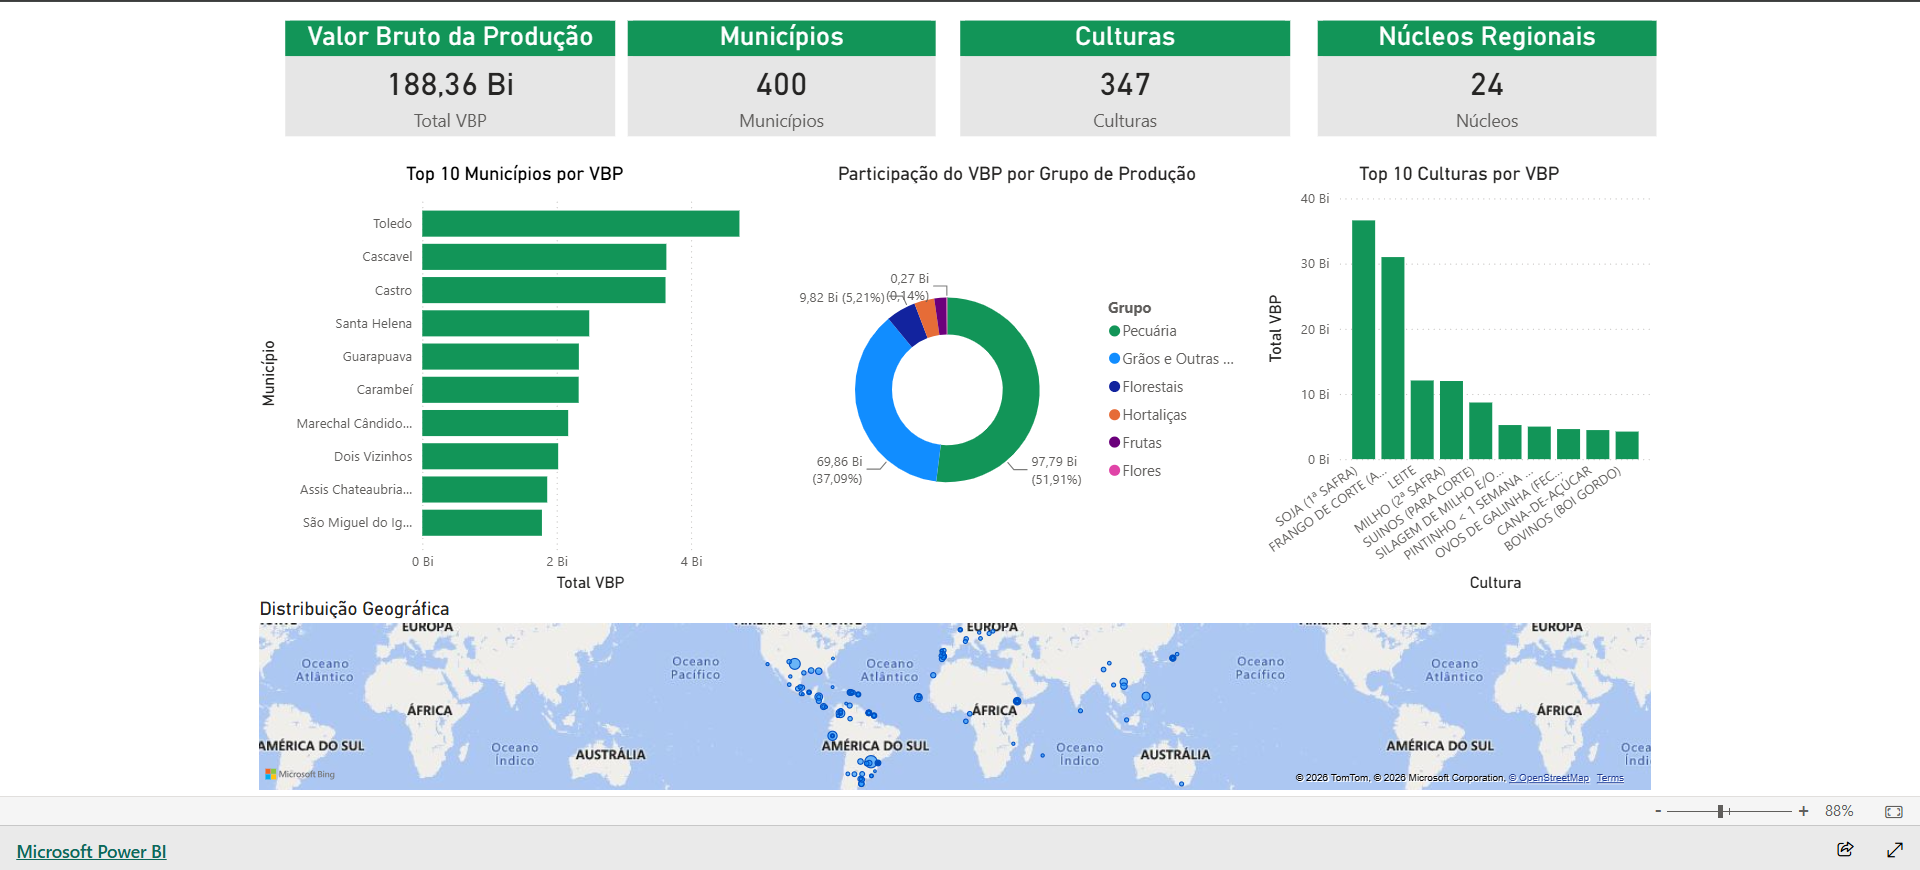

This screenshot's page, from the dashboard's own definition file:
{"tool":"powerbi","page":{"name":"Página 1","canvas":[1280,720],"ordinal":0},"visuals":[{"type":"card","title":"Valor Bruto da Produção","fields":{"Values":["Fato_VBP.Total VBP"]},"box":[27.8,17.3,299.6,104.7],"z":0},{"type":"card","title":"Municípios","fields":{"Values":["Fato_VBP.Municípios"]},"box":[339,17.3,279.4,104.7],"z":1000},{"type":"card","title":"Culturas","fields":{"Values":["Fato_VBP.Culturas"]},"box":[640.5,17.3,299.6,104.7],"z":2000},{"type":"card","title":"Núcleos Regionais","fields":{"Values":["Fato_VBP.Núcleos"]},"box":[965,17.3,307.3,104.7],"z":3000},{"type":"clusteredBarChart","title":"Top 10 Municípios por VBP","fields":{"Category":["Fato_VBP.Município"],"Y":["Fato_VBP.Total VBP"]},"box":[0,145.1,472.4,394.5],"z":4000},{"type":"donutChart","title":"Participação do VBP por Grupo de Produção","fields":{"Category":["Fato_VBP.Grupo"],"Y":["Fato_VBP.Total VBP"]},"box":[478.8,145.1,427.1,394.5],"z":5000},{"type":"map","title":"Distribuição Geográfica","fields":{"Category":["Fato_VBP.Município"],"Size":["Fato_VBP.Total VBP"]},"box":[0,539.5,1272.2,180.5],"z":6000},{"type":"clusteredColumnChart","title":"Top 10 Culturas por VBP","fields":{"Category":["Fato_VBP.Cultura"],"Y":["Fato_VBP.Total VBP"]},"box":[914.1,145.1,358.2,394.5],"z":7000}]}

Visuals, with their boxes on the page's 1280x720 design canvas (x1, y1, x2, y2). These are canvas units, not pixel positions in the 1920x870 screenshot, which may show the page scaled, cropped or inside an application window:
"Valor Bruto da Produção" card: box(28, 17, 327, 122)
"Municípios" card: box(339, 17, 618, 122)
"Culturas" card: box(640, 17, 940, 122)
"Núcleos Regionais" card: box(965, 17, 1272, 122)
"Top 10 Municípios por VBP" clusteredBarChart: box(0, 145, 472, 540)
"Participação do VBP por Grupo de Produção" donutChart: box(479, 145, 906, 540)
"Distribuição Geográfica" map: box(0, 540, 1272, 720)
"Top 10 Culturas por VBP" clusteredColumnChart: box(914, 145, 1272, 540)
